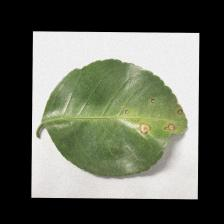canker: (128, 116, 189, 154)
